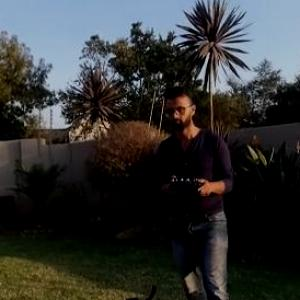follow: (156, 81, 238, 299)
